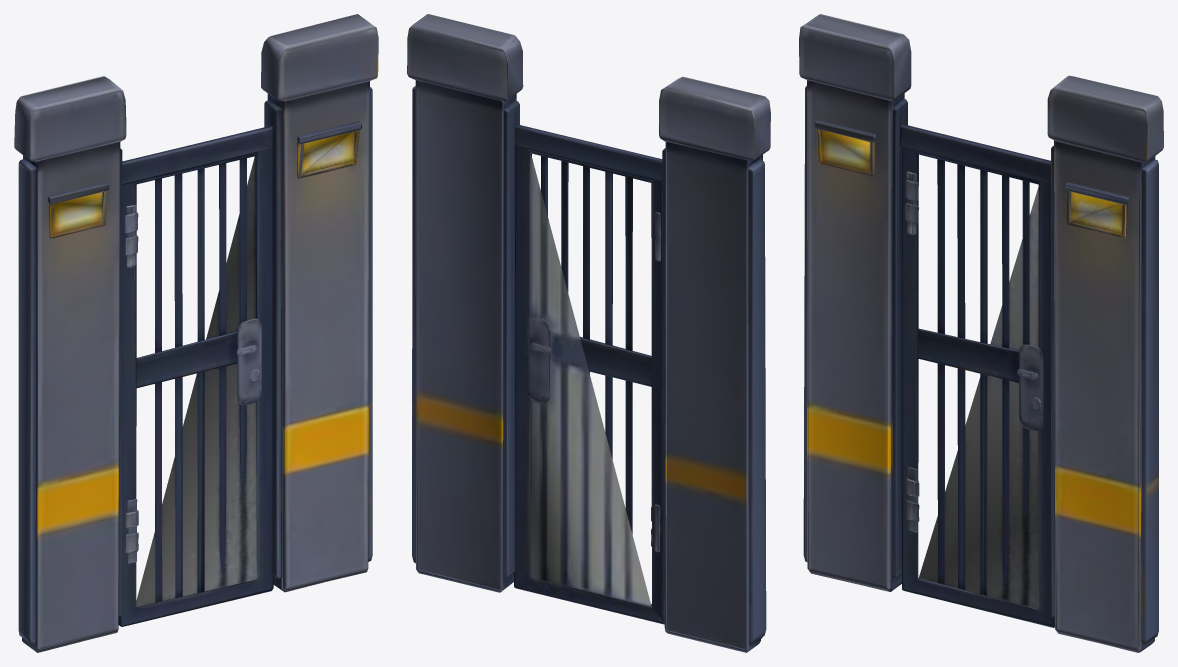
The model's file is pedestrian-gate.glb.
3 views of the same model, side by side, from view 1: azimuth 30°, elevation 25°; view 2: azimuth 150°, elevation 25°; view 3: azimuth 330°, elevation 25° (orthographic).
Visible parts, largest first — view 1: meshy-pedestrian-gate; view 2: meshy-pedestrian-gate; view 3: meshy-pedestrian-gate.
Boxes of the visible parts, <box> form: meshy-pedestrian-gate: <box>14,14,378,652</box>; meshy-pedestrian-gate: <box>407,14,770,652</box>; meshy-pedestrian-gate: <box>799,14,1163,652</box>.
Bounding box in the file's own units: 2 × 3 × 0.18.
Materials: 1 (1 with a texture image).
